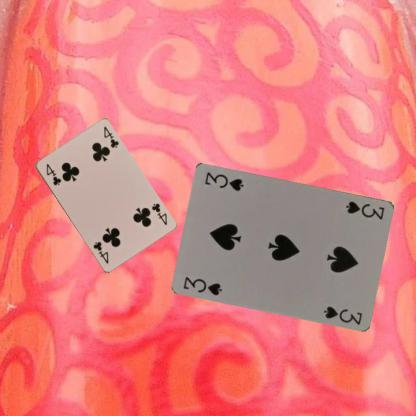3s: (343, 198, 386, 221), (180, 274, 224, 296)
4c: (43, 160, 62, 186), (149, 200, 168, 226)
